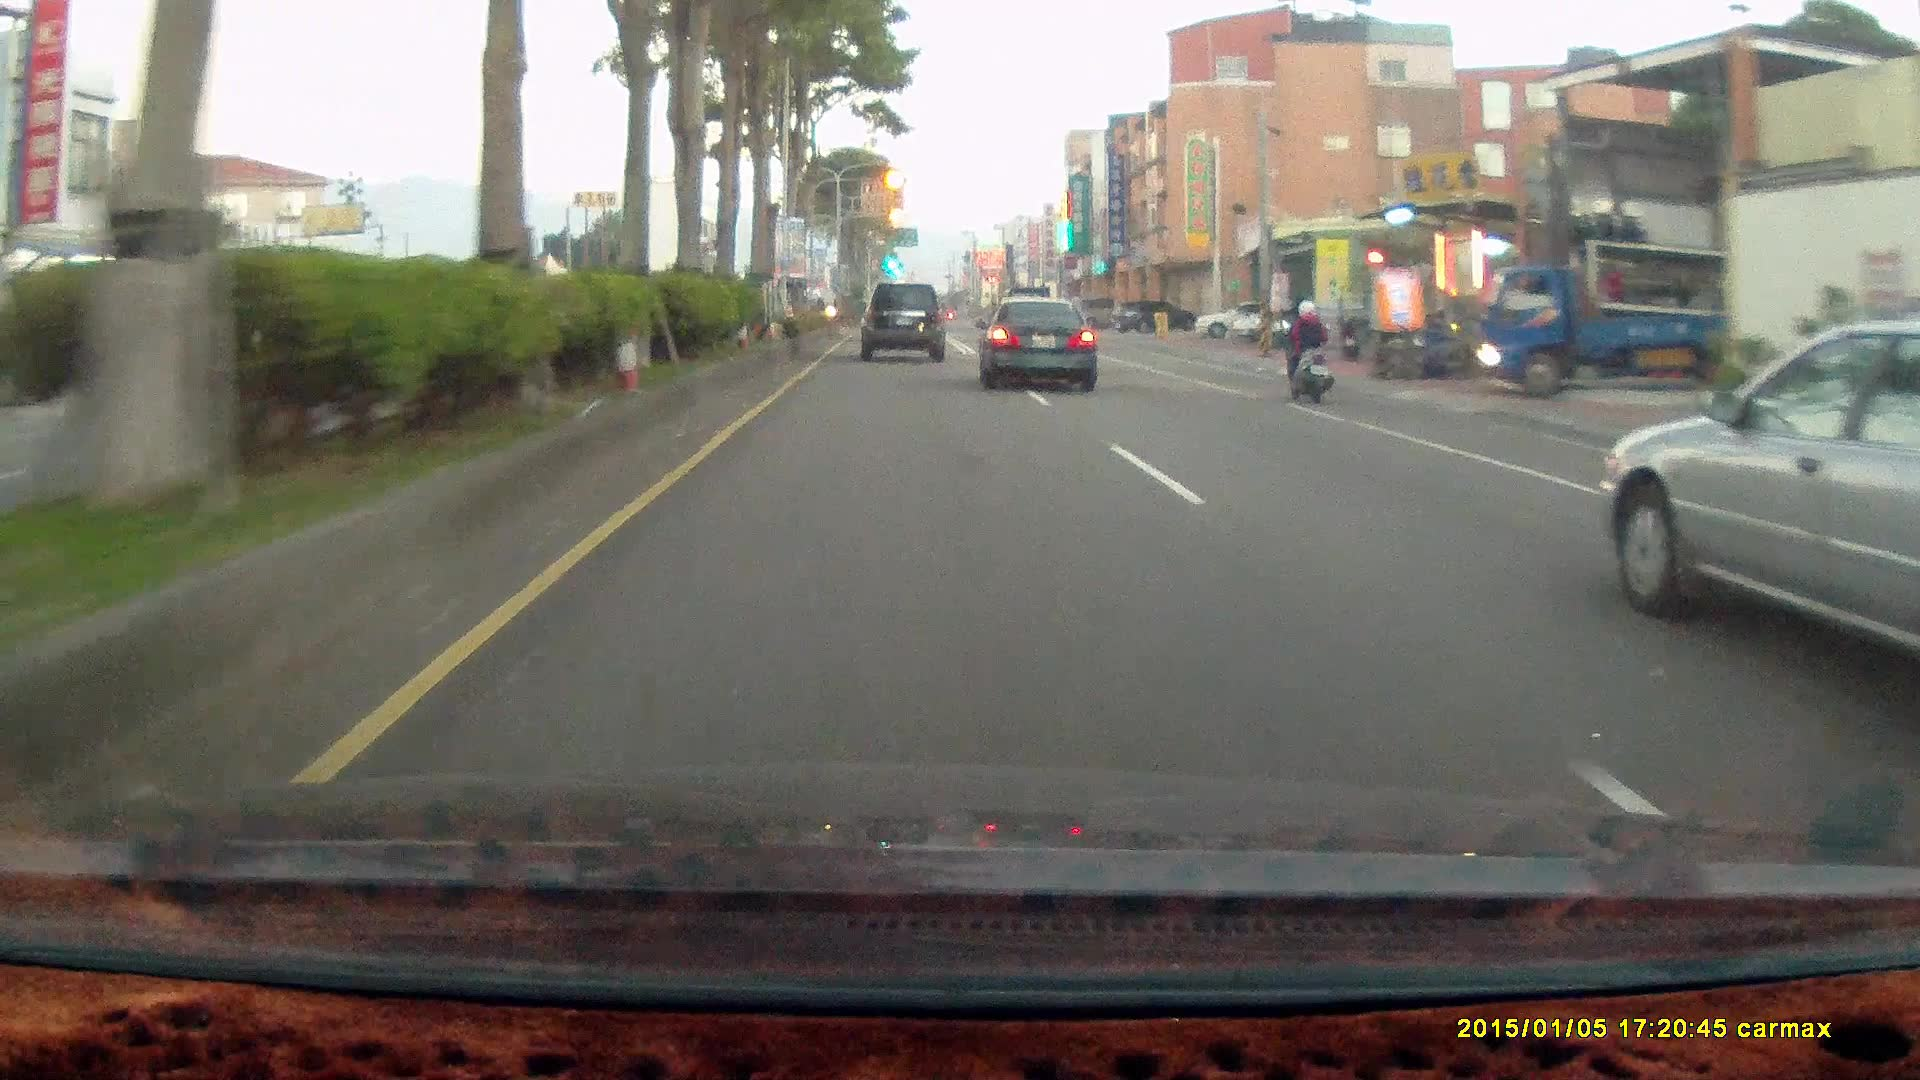rider: (1270, 290, 1348, 417), (1277, 299, 1336, 403)
vehicle: (1602, 314, 1920, 727), (1600, 318, 1919, 711), (1477, 240, 1734, 395), (1474, 267, 1777, 397), (970, 295, 1097, 391), (982, 296, 1104, 392), (858, 280, 951, 364), (858, 281, 946, 363), (1276, 296, 1377, 348), (1195, 300, 1291, 338), (1112, 302, 1195, 335), (1070, 296, 1133, 332)
